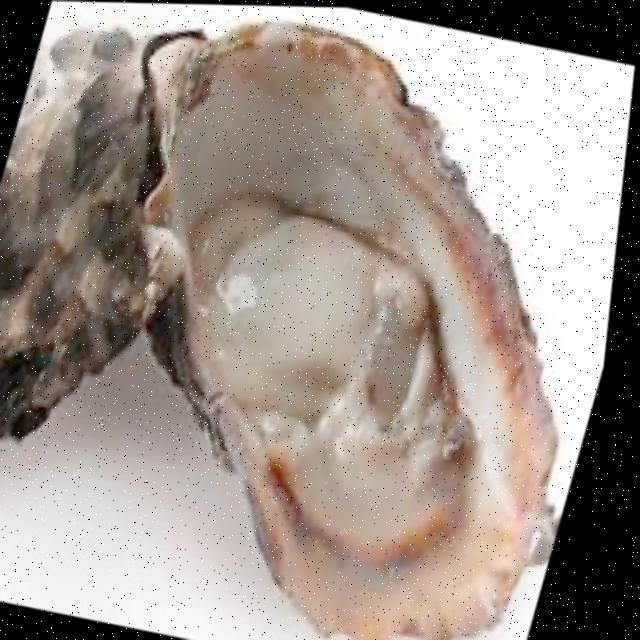Oyster-Indeterminate: (0, 27, 203, 439)
Oyster-Open: (147, 24, 557, 640)
